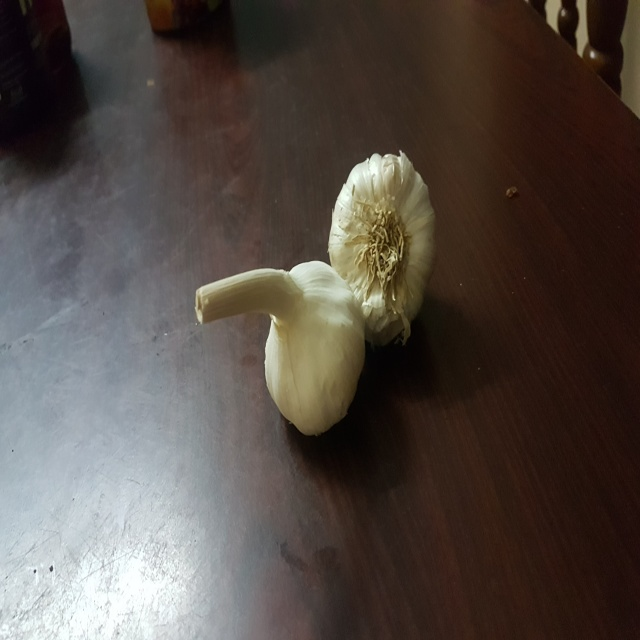garlic: (189, 248, 382, 442), (321, 150, 471, 352)
